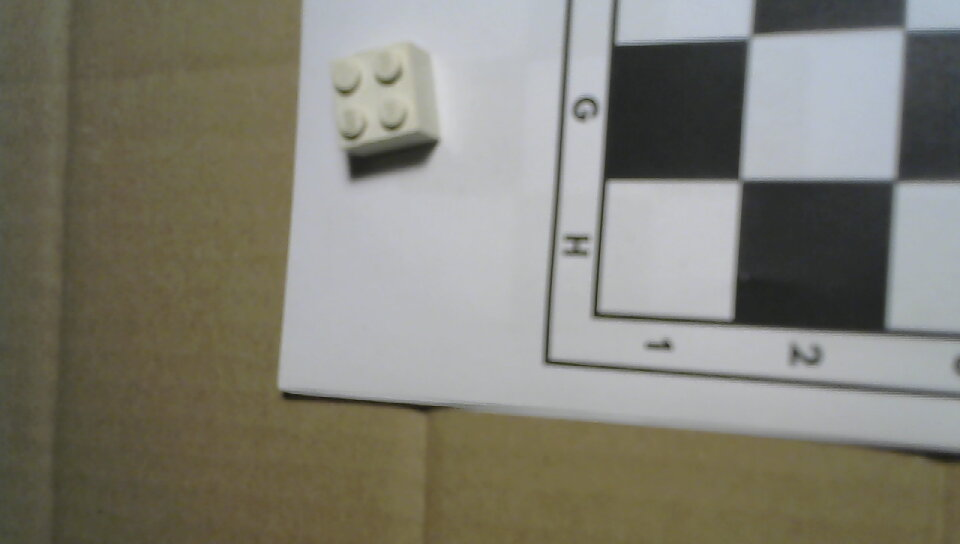wp: (313, 33, 455, 175)
